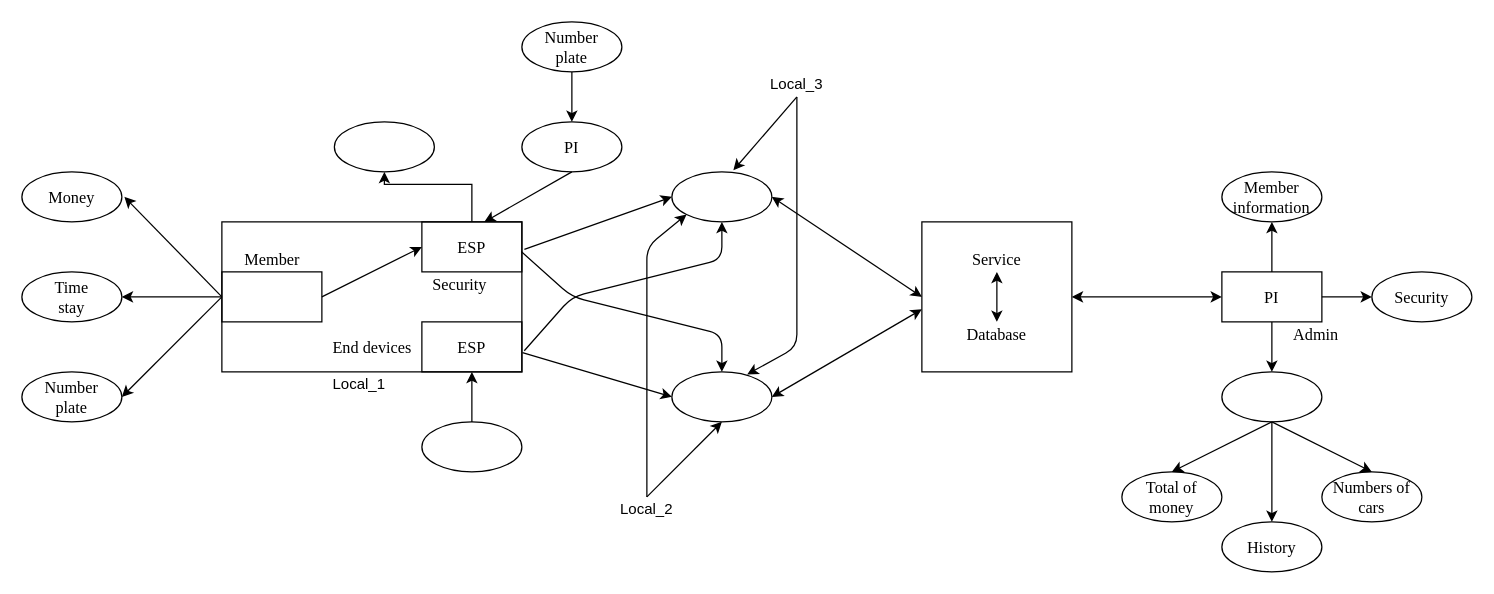
The diagram is 1494 pixels wide and 594 high, and some of its shapes have lost their labels. Each missing label, with the box of its shape:
Barrier: (333, 121, 434, 172)
Monitoring: (1221, 371, 1322, 422)
MQTT Broker_1: (671, 171, 772, 222)
MQTT Broker_2: (671, 371, 772, 422)
RFID: (221, 271, 322, 322)
vl53l0x: (421, 421, 522, 472)
